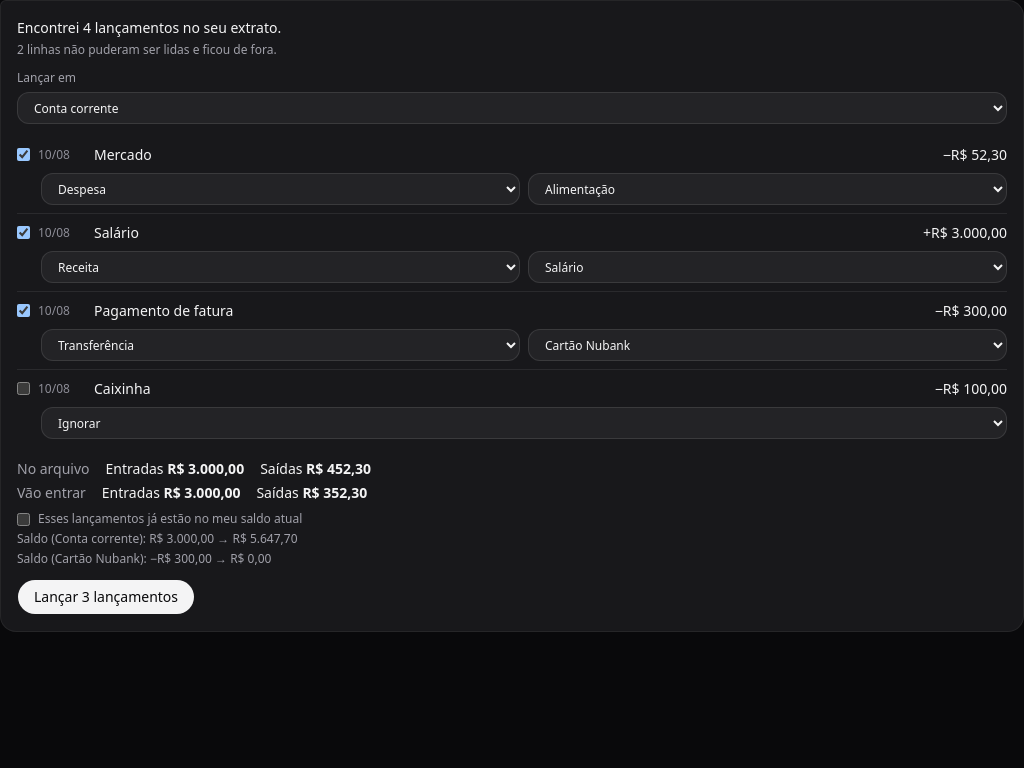
Test: RevisaoImportacao › lançar envia as linhas revisadas e mostra o resumo
Click the button "Lançar 3 lançamentos".
click(106, 597)  # box [17,579,195,615]
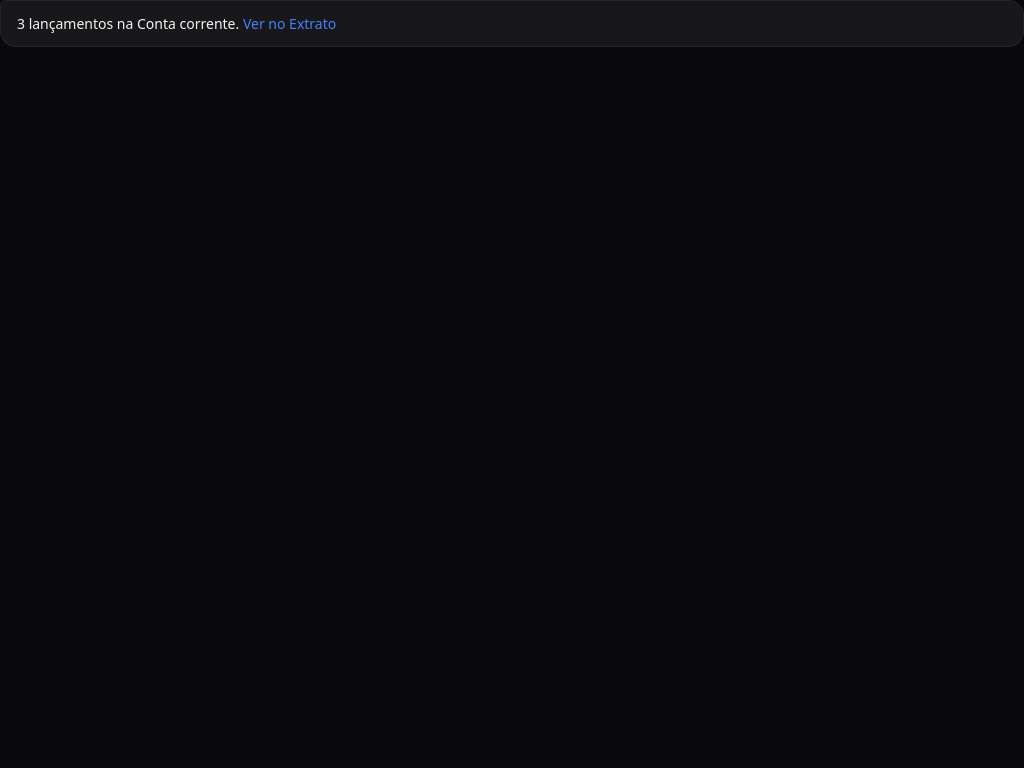
Expected: the message shows "3 lançamentos na Conta corrente", [0,0,1023,47]
